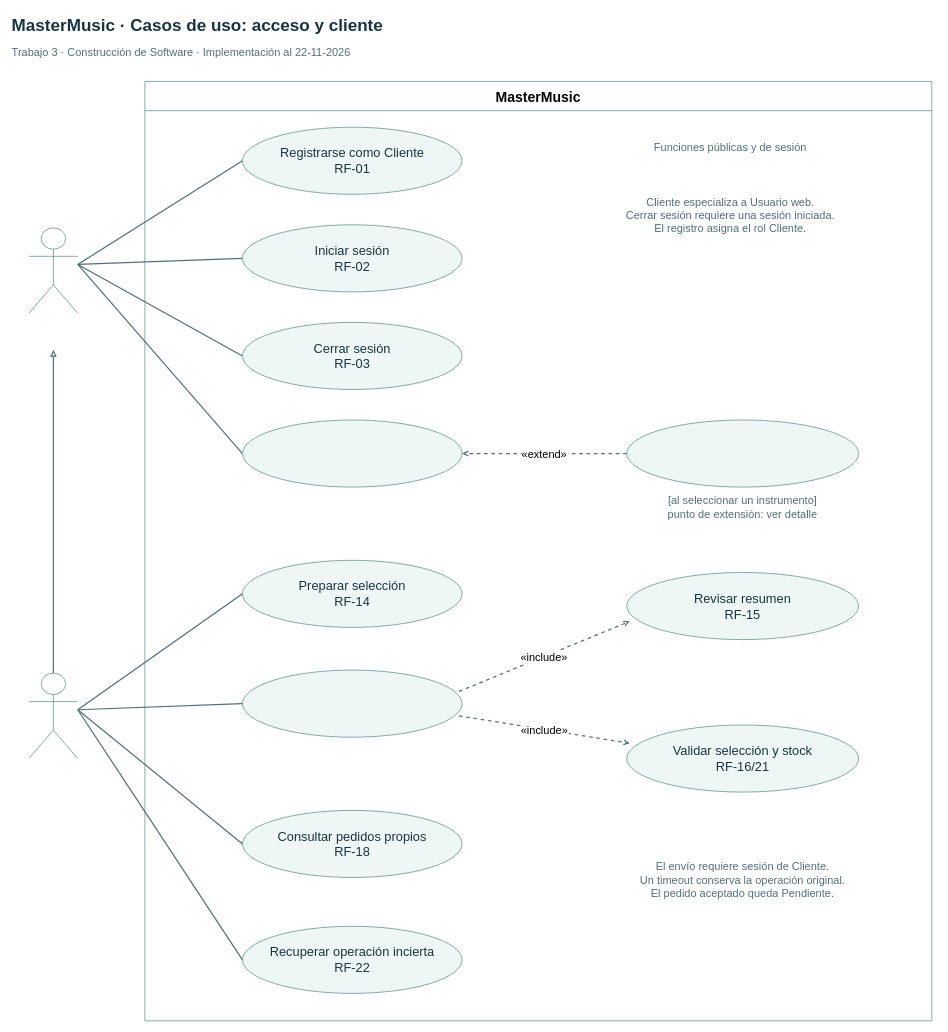
The diagram is 948 pixels wide and 1032 high, and some of its shapes have lost their labels. The centre of each missing label's shape, as x and y in pixels:
"Cliente" belongs at (x=53, y=716).
"Consultar catálogo RF-04" belongs at (x=352, y=453).
"Consultar detalle RF-05" belongs at (x=742, y=453).
"Enviar pedido RF-16/17/21" belongs at (x=352, y=703).
"Usuario web" belongs at (x=53, y=270).
